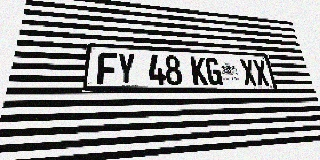4: (148, 54, 166, 85)
8: (164, 55, 182, 85)
F: (97, 52, 117, 85)
G: (205, 57, 223, 86)
K: (190, 57, 208, 85)
X: (239, 59, 258, 86), (252, 60, 270, 86)
Y: (117, 53, 135, 85)
